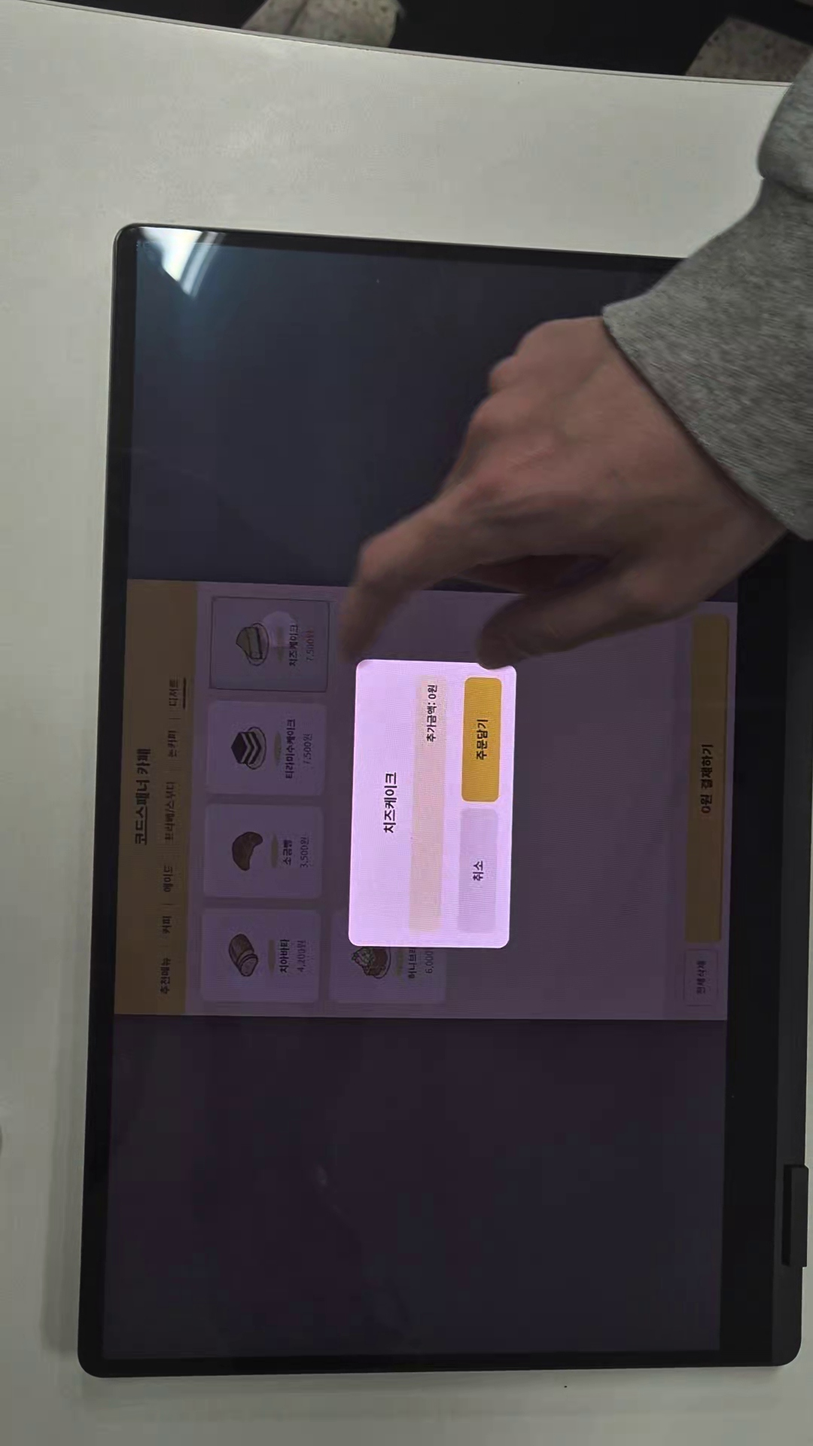action_button: (461, 677, 503, 800), (461, 811, 498, 930)
popup_modal: (353, 660, 516, 948)
